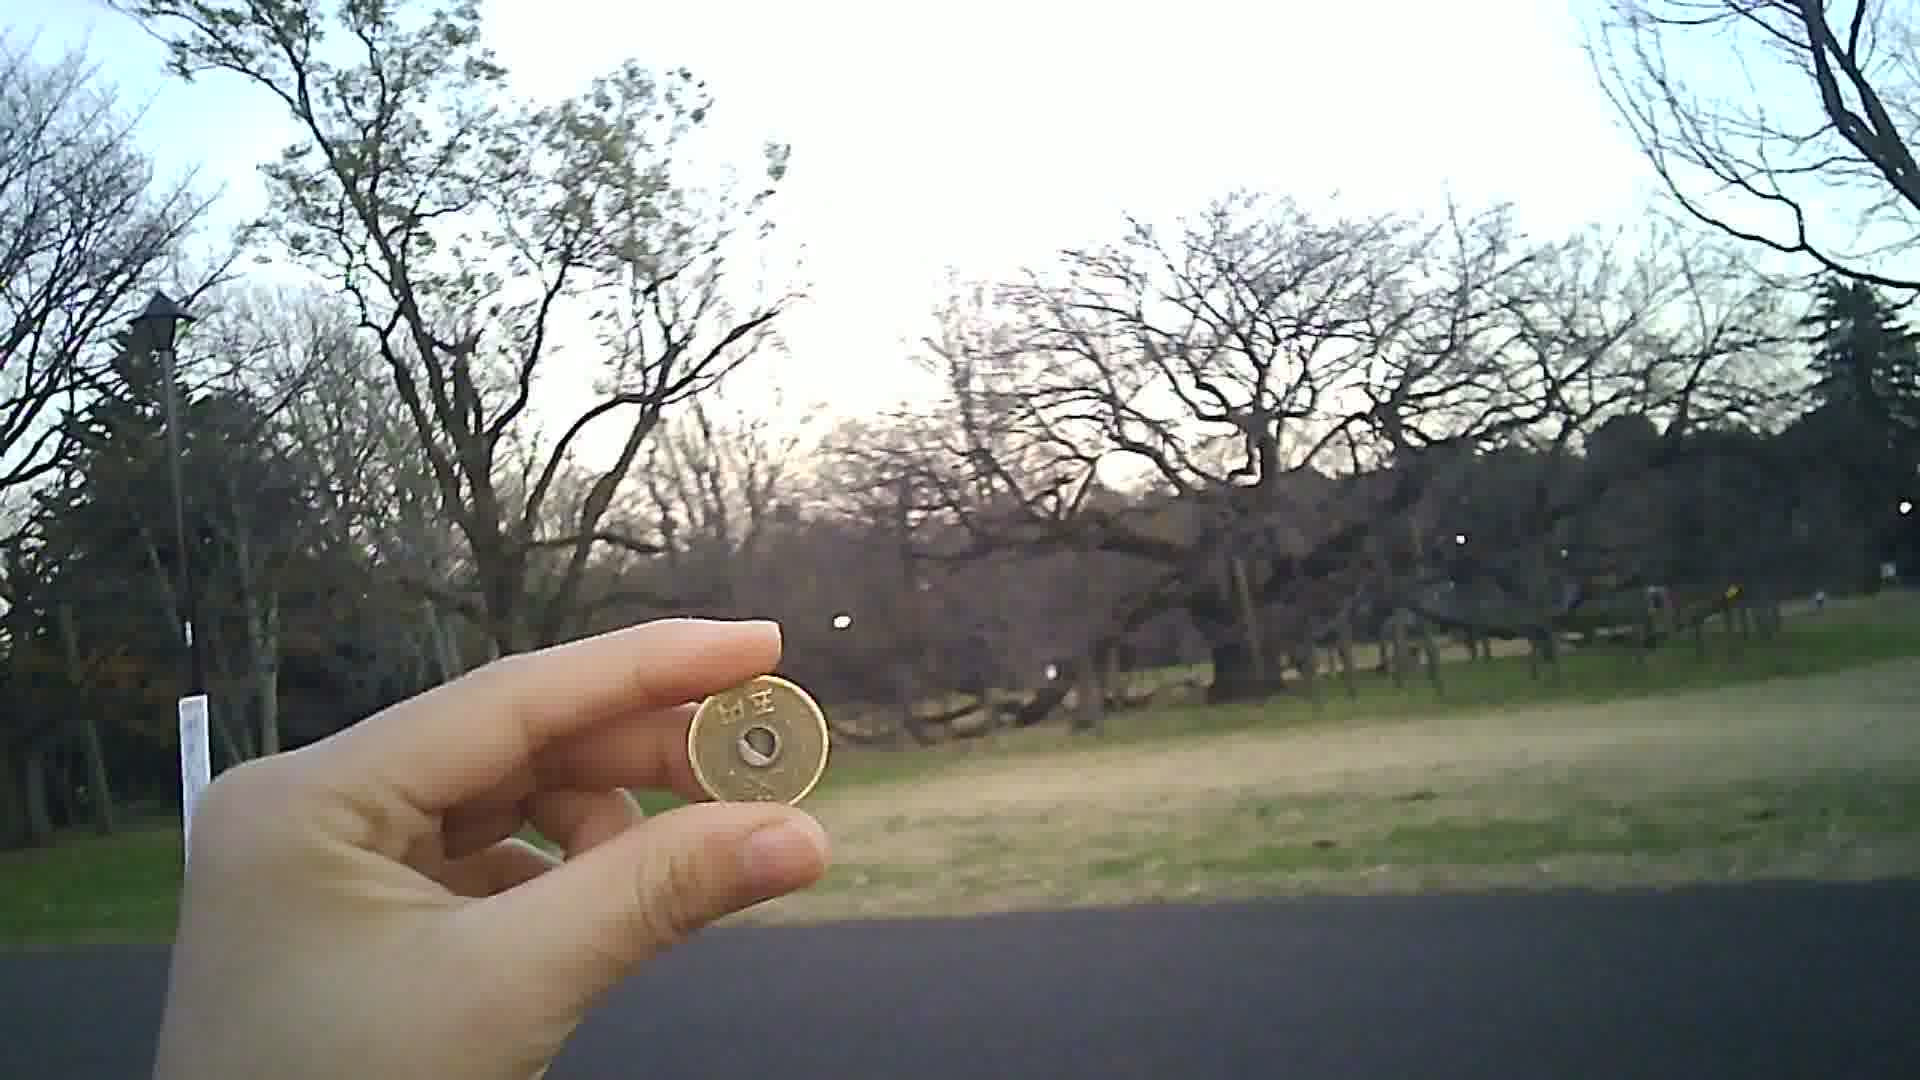5 Yen: (688, 671, 835, 812)
